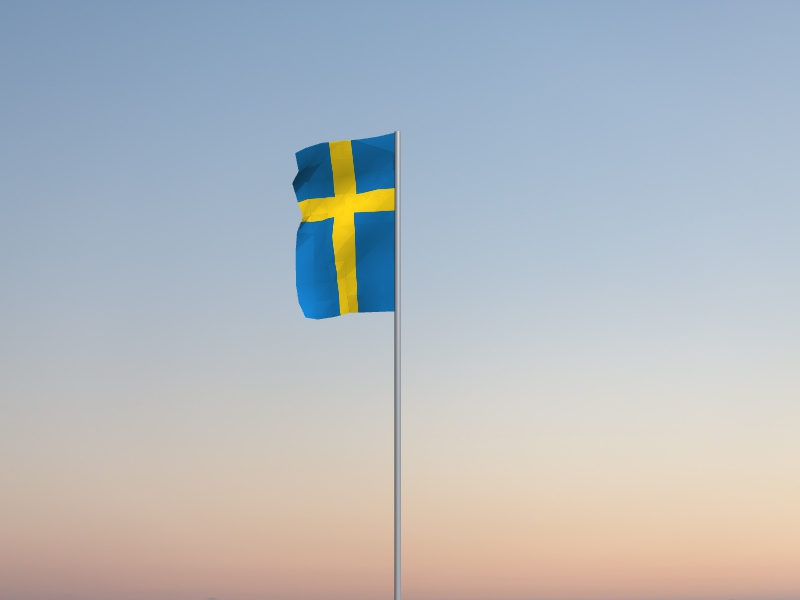se: (293, 133, 395, 321)
